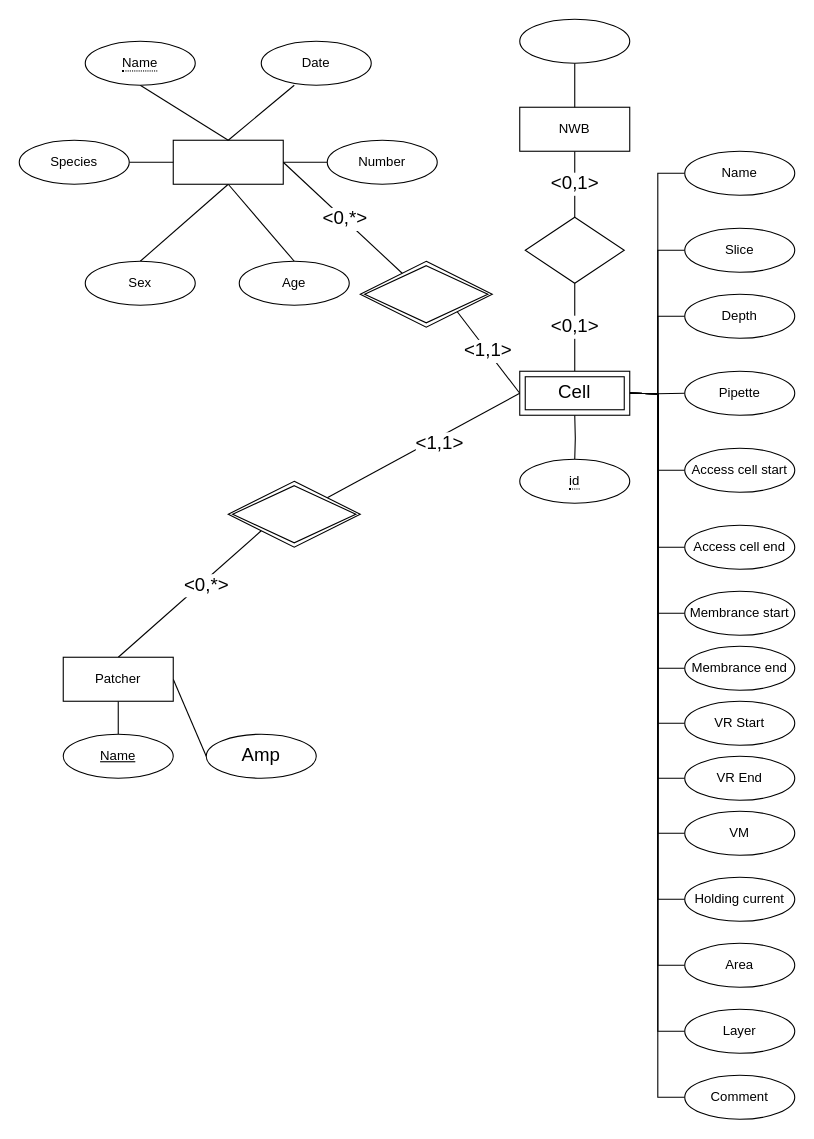
This 814x1139 diagram has some shape labels left out. The shapes that lost their labels are listed below. From the top down, each one's box as (x1, y1, x2, y2) in pixels, then its label:
(519, 18, 630, 63): filepath
(172, 139, 283, 184): Monkey
(524, 216, 624, 283): has
(359, 260, 492, 327): Part of
(227, 480, 360, 547): examined
